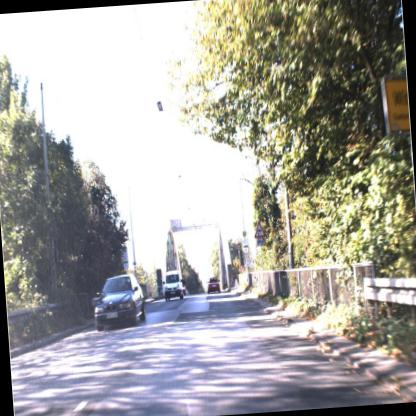danger: (254, 217, 268, 241)
